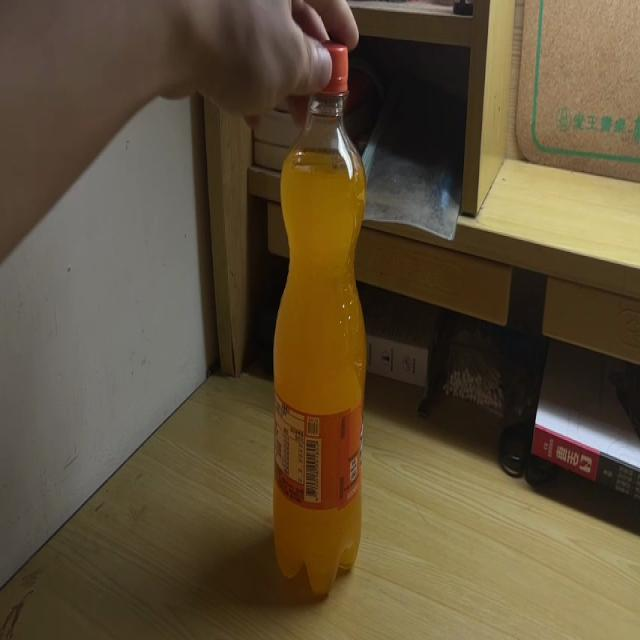Fanta: (272, 33, 366, 596)
